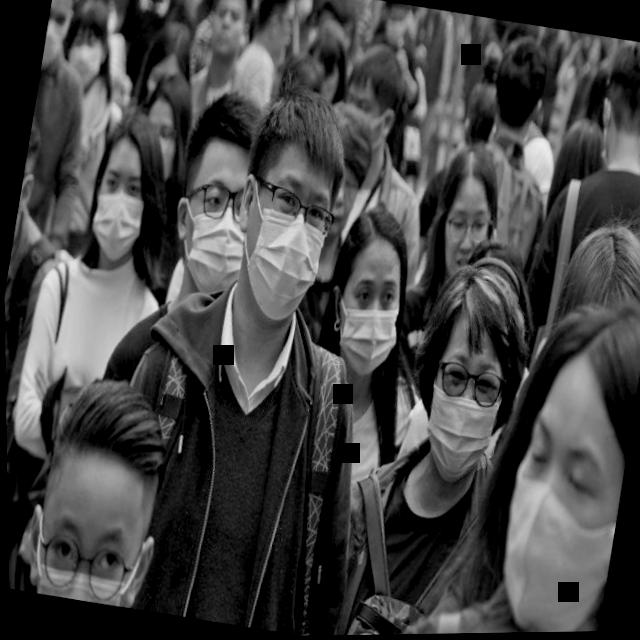Mask: (477, 291, 640, 634), (12, 350, 196, 614), (214, 68, 363, 341), (399, 250, 535, 503), (158, 79, 271, 316), (312, 190, 429, 402), (79, 102, 177, 275), (5, 96, 56, 274), (38, 0, 92, 79)
NO-Mask: (425, 134, 513, 298), (202, 0, 264, 70)
